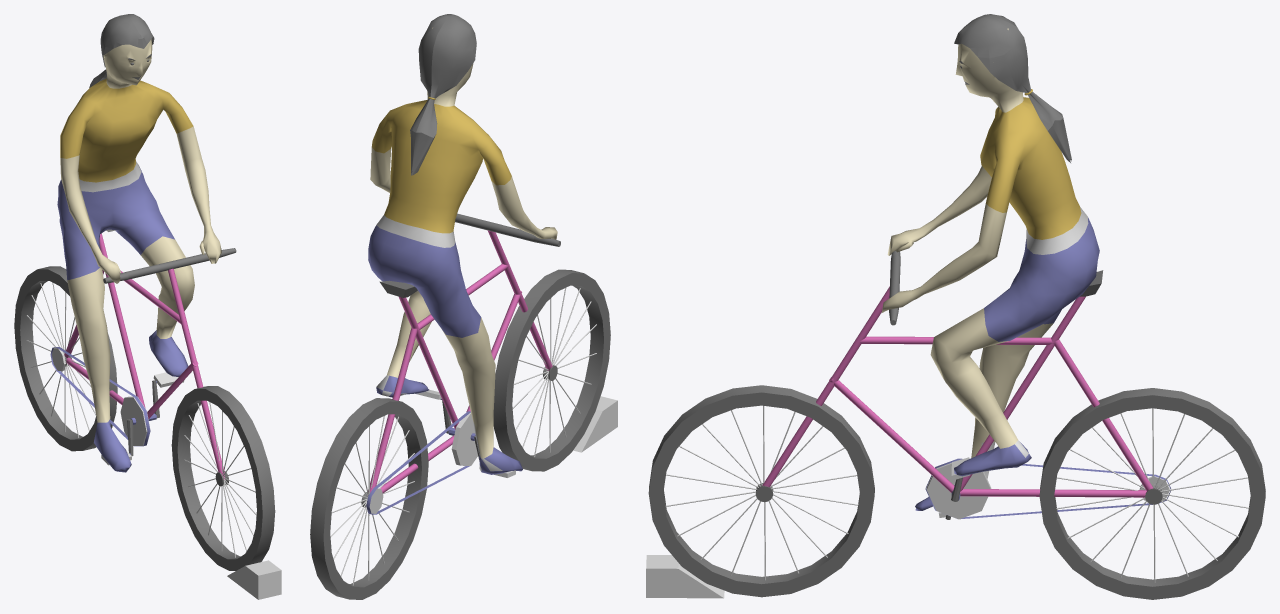
The model's file is bicycleNoLights.dae.
3 renders of one model, left to right at view 1: azimuth 30°, elevation 25°; view 2: azimuth 150°, elevation 25°; view 3: azimuth 270°, elevation 25°, orthographic. The views are drawn at different scales.
Visible parts, largest first — view 1: polySurface1, wheelFron, wheelBack, hair, block, beam6, beam5, handleBar, pedalGear, chain, beam1, beam2; view 2: polySurface1, wheelBack, wheelFron, hair, block, beam3, pedalGear, beam5, beam6, handleBar, chain, beam4 (+3 smaller); view 3: polySurface1, wheelBack, wheelFron, hair, block, pedalGear, beam6, beam4, beam5, beam1, beam3, beam2 (+1 smaller).
Part boxes in pixels (box(x1,y1,x2,y2)): polySurface1: box(57, 39, 221, 472); wheelFron: box(171, 386, 275, 570); wheelBack: box(14, 266, 117, 451); hair: box(89, 14, 154, 87); block: box(227, 560, 281, 599); beam6: box(168, 268, 225, 479); beam5: box(99, 233, 145, 408); handleBar: box(103, 248, 236, 283); pedalGear: box(120, 396, 150, 445); chain: box(50, 347, 150, 446); beam1: box(147, 361, 198, 418); beam2: box(120, 270, 181, 323); polySurface1: box(368, 27, 557, 474); wheelBack: box(310, 398, 428, 599); wheelFron: box(493, 269, 610, 471); hair: box(410, 14, 476, 175); block: box(573, 396, 617, 452); beam3: box(368, 327, 417, 492); pedalGear: box(451, 412, 477, 465); beam5: box(399, 297, 459, 429); beam6: box(487, 230, 552, 370); handleBar: box(455, 213, 560, 246); chain: box(366, 411, 470, 514); beam4: box(380, 435, 454, 493); polySurface1: box(882, 28, 1099, 510); wheelBack: box(1039, 388, 1265, 599); wheelFron: box(648, 385, 874, 597); hair: box(954, 14, 1071, 162); block: box(646, 555, 724, 598); pedalGear: box(926, 462, 991, 519); beam6: box(762, 286, 889, 487); beam4: box(960, 489, 1146, 497); beam5: box(960, 296, 1085, 491); beam1: box(829, 377, 954, 492); beam3: box(1054, 339, 1152, 490); beam2: box(860, 336, 1054, 344).
Size of what is drawn, in the model's own units: 5.88 by 19.69 by 19.19.
